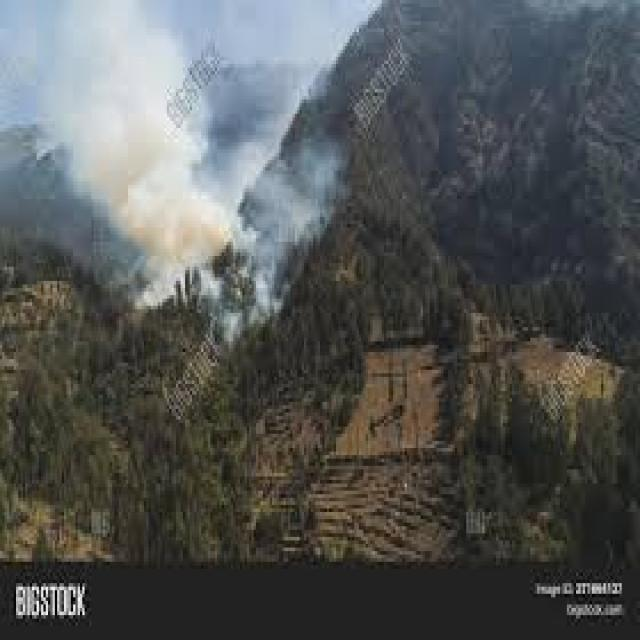Smoke: (52, 3, 354, 340)
